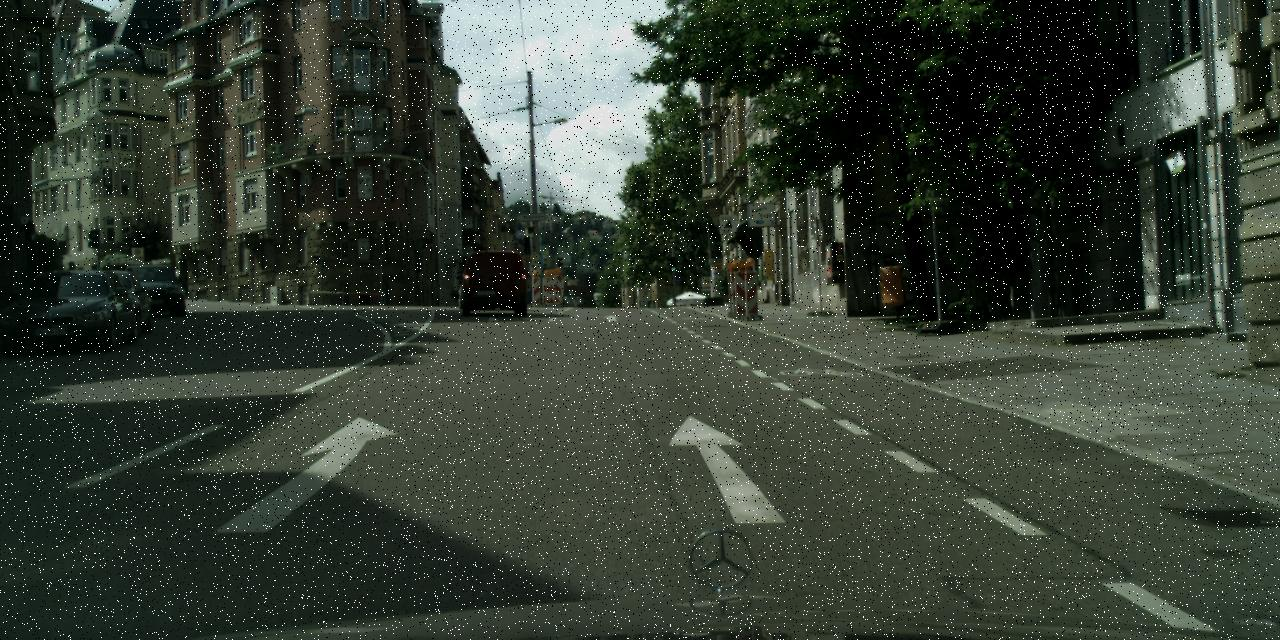ped: (62, 260, 82, 308)
